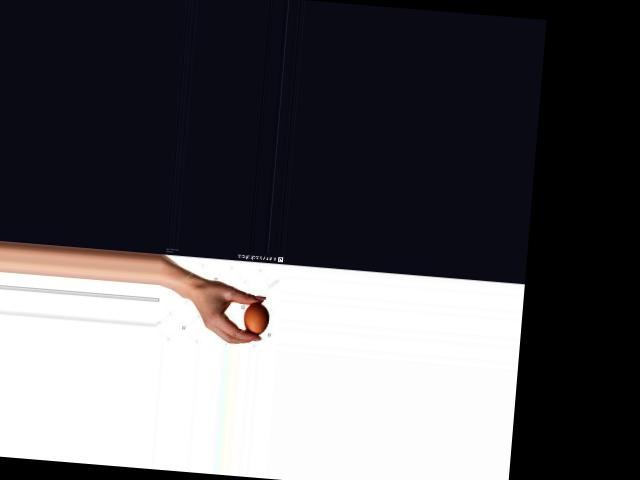egg: (241, 302, 269, 335)
